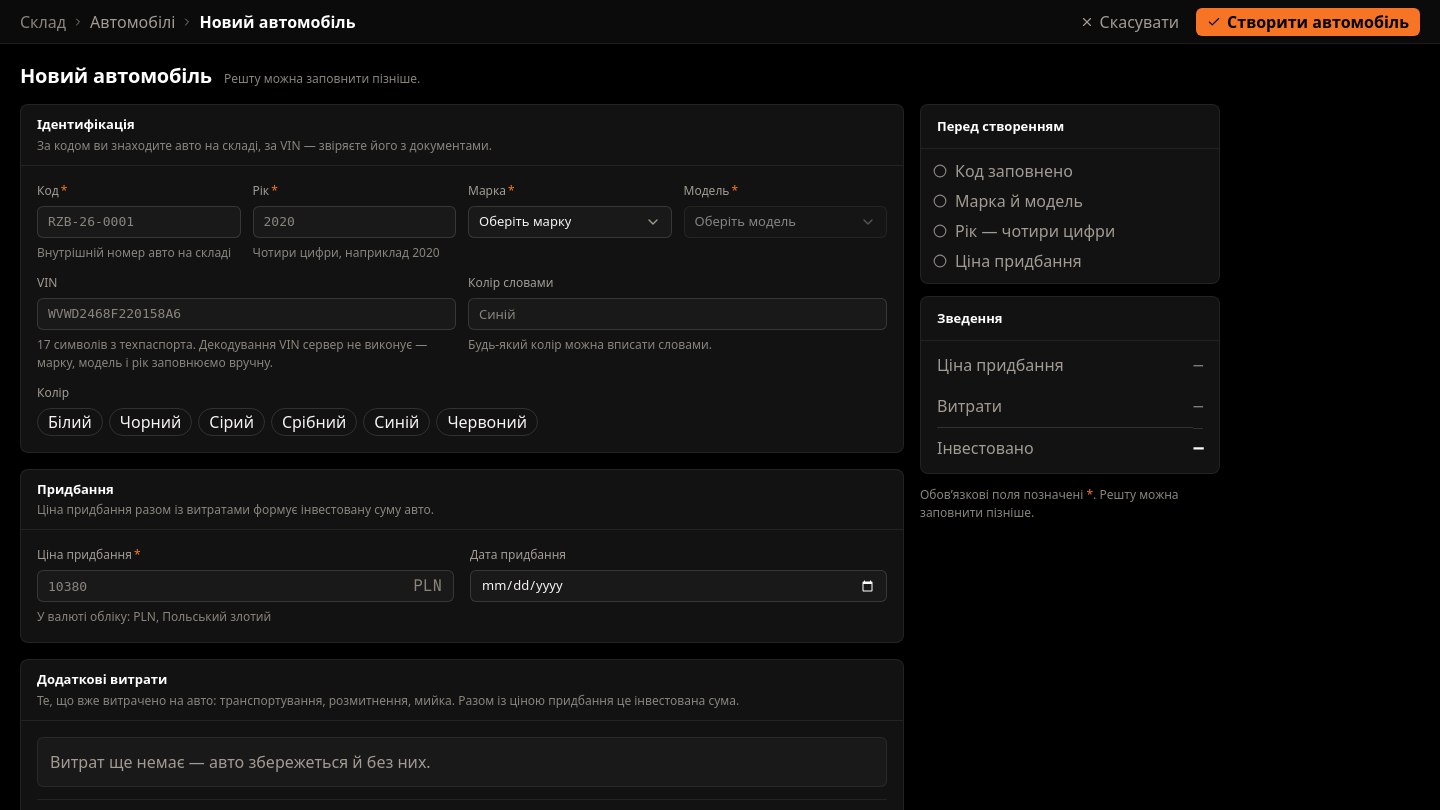
Test: car purchase price and the accounting currency › shows the code and warns that the first price, even 0, locks it
expect the text "буде зафіксовано" is not shown: met
Type "0" into the field labelled "Ціна придбання" at (246, 586), box [37,570,454,602]
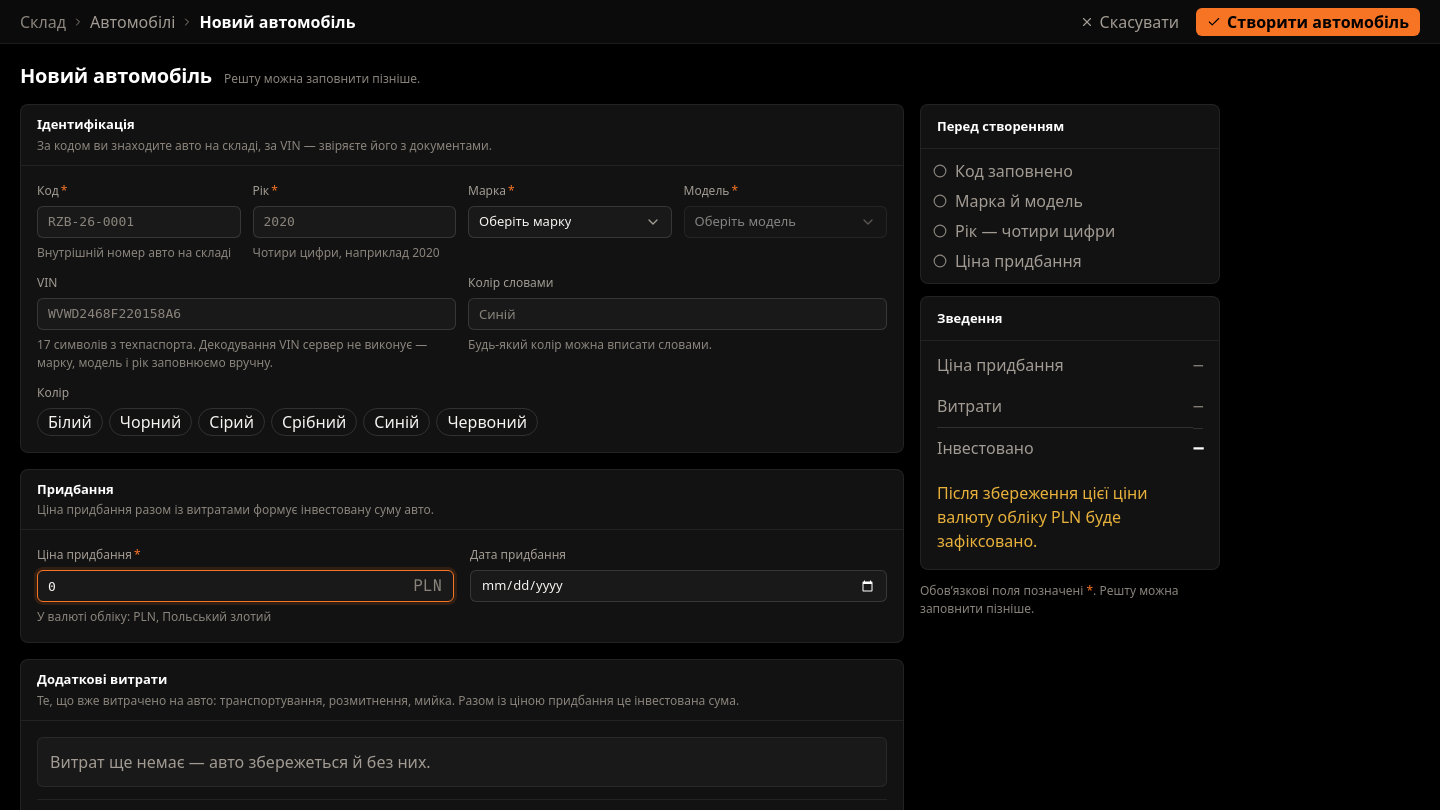
expect the text "Після збереження цієї ціни валюту обліку PLN буде зафіксовано." is shown: met, box [937,482,1148,552]
Clear the field labelled "Ціна придбання" at (246, 586), box [37,570,454,602]
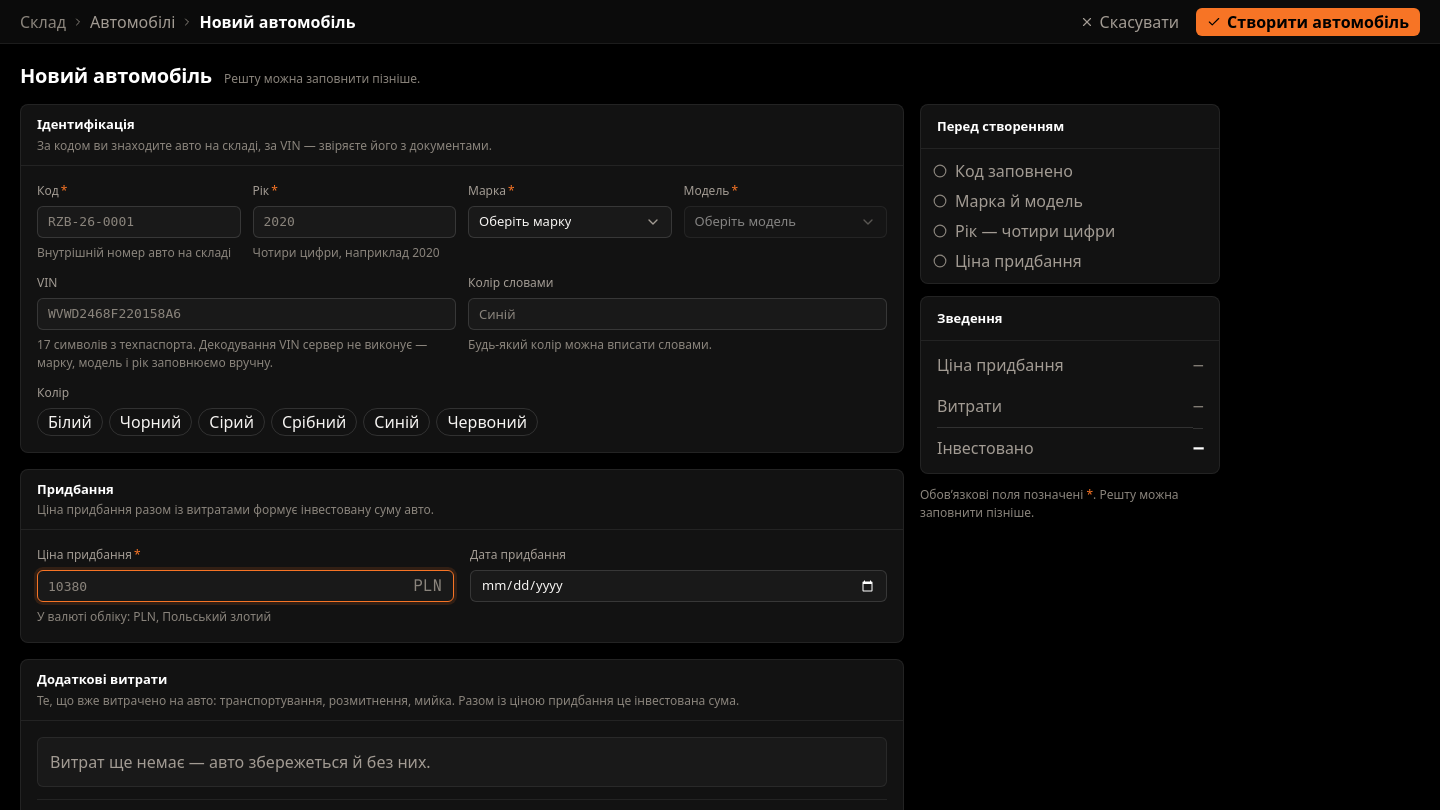
expect the text "буде зафіксовано" is gone: met
